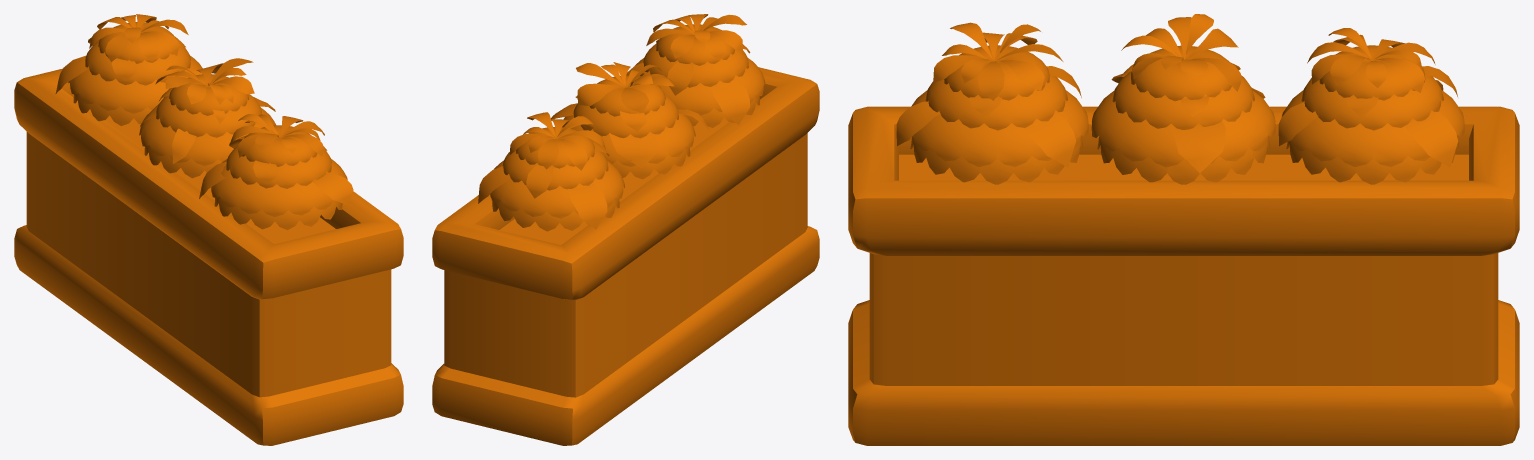
The model's file is SM_Plants006.fbx.
3 views of the same model, side by side, from view 1: azimuth 30°, elevation 25°; view 2: azimuth 150°, elevation 25°; view 3: azimuth 270°, elevation 25° (orthographic). The views are drawn at different scales.
Parts seen in each view (by area): view 1: SM_Plants006; view 2: SM_Plants006; view 3: SM_Plants006.
Part boxes in pixels (x1=…): SM_Plants006: x1=14, y1=14, x2=403, y2=445; SM_Plants006: x1=432, y1=14, x2=819, y2=445; SM_Plants006: x1=848, y1=14, x2=1519, y2=445.
Bounding box in the file's own units: 85.47 × 153 × 254.
